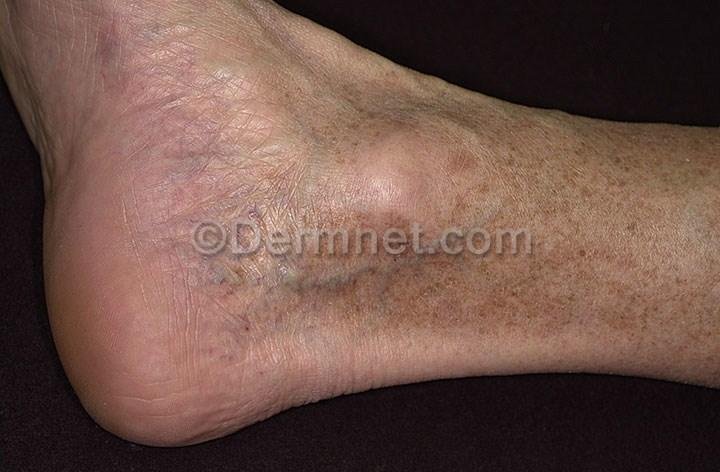Eczema: (200, 261, 475, 366), (552, 112, 720, 253), (418, 98, 554, 223), (466, 254, 639, 347), (645, 244, 720, 389), (299, 62, 409, 154)
